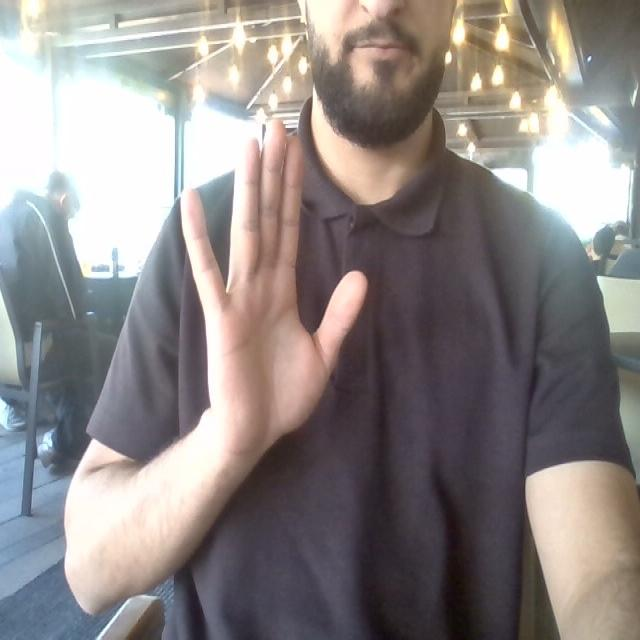Hand: (181, 120, 365, 457)
